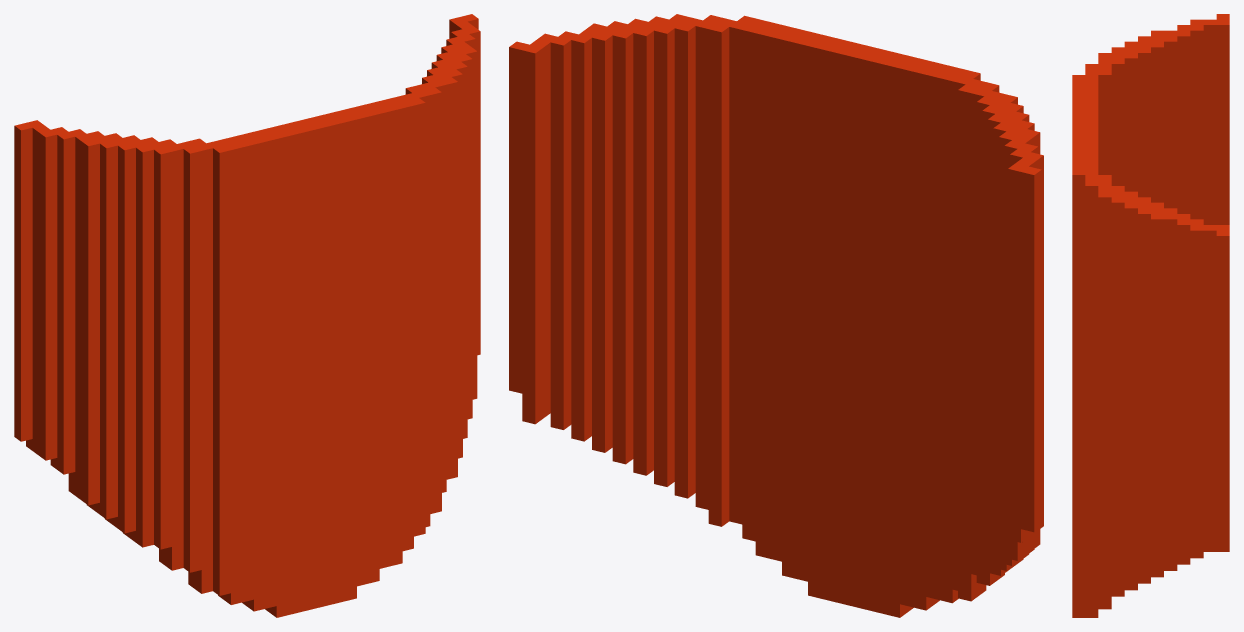
The model's file is Shield.FBX.
3 views of the same model, side by side, from view 1: azimuth 30°, elevation 25°; view 2: azimuth 150°, elevation 25°; view 3: azimuth 270°, elevation 25° (orthographic). The views are drawn at different scales.
Parts seen in each view (by area): view 1: shield; view 2: shield; view 3: shield.
Part boxes in pixels (left/top/right/bottom): shield: left=14, top=14, right=480, bottom=617; shield: left=509, top=14, right=1043, bottom=617; shield: left=1072, top=14, right=1229, bottom=617.
Bounding box in the file's own units: 4 × 4 × 1.2.
Materials: 1 (1 with a texture image).
